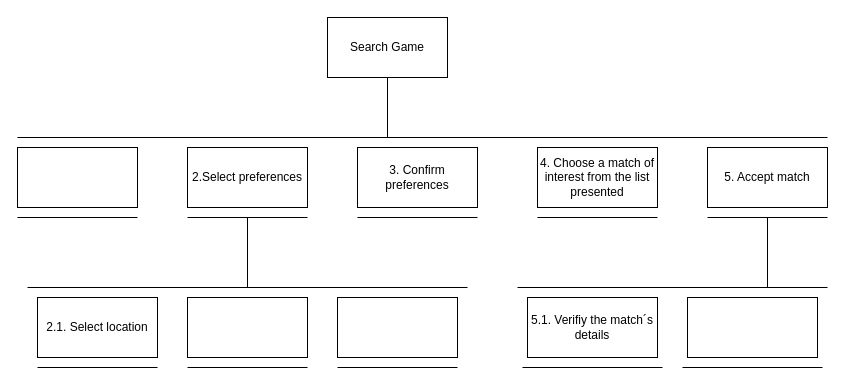
This 846x386 diagram has some shape labels left out. Each missing label, with the centre of its shape:
1. S elect option to find matches: the point at 77,177
2.2. Select sport: the point at 247,327
2.3. Pick a time: the point at 397,327
5.2. Confirm presence: the point at 752,327
